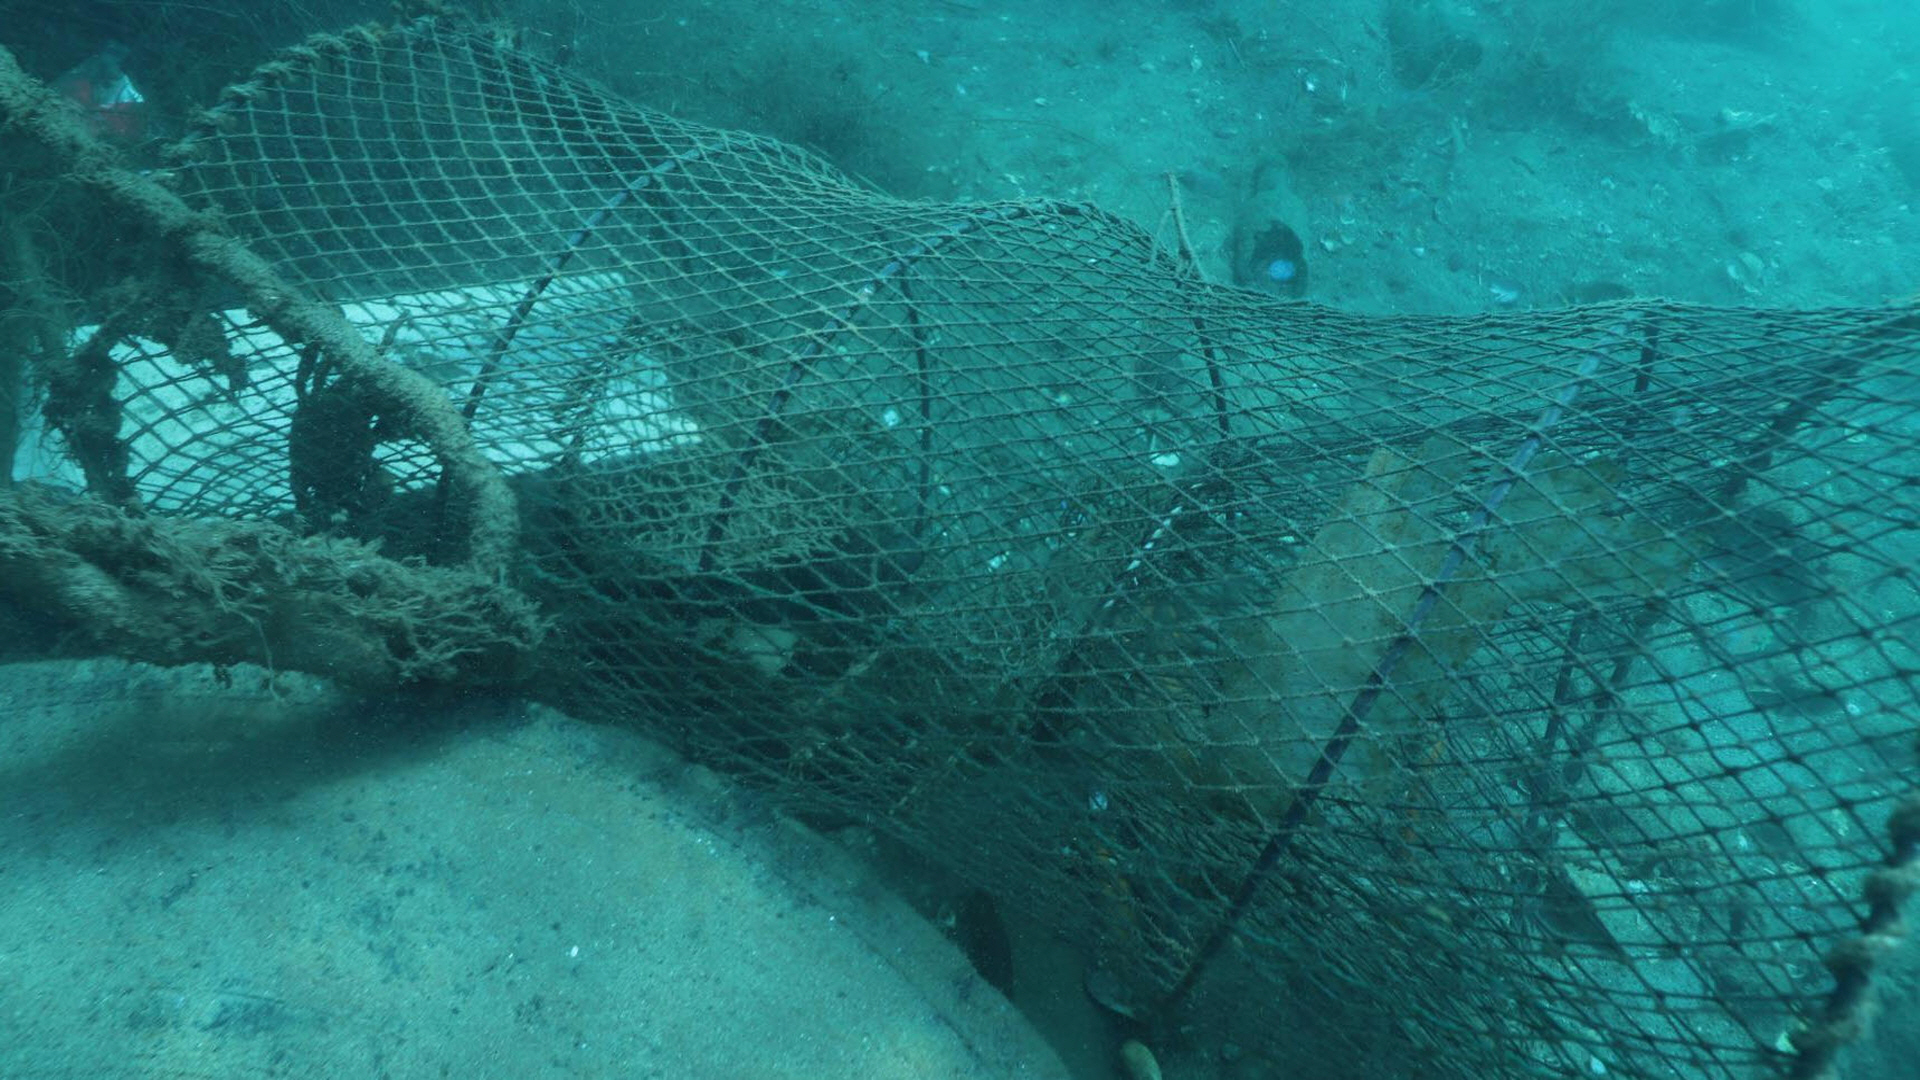bundle of ropes: (0, 50, 524, 676)
spring fish trap: (73, 15, 1920, 1080)
